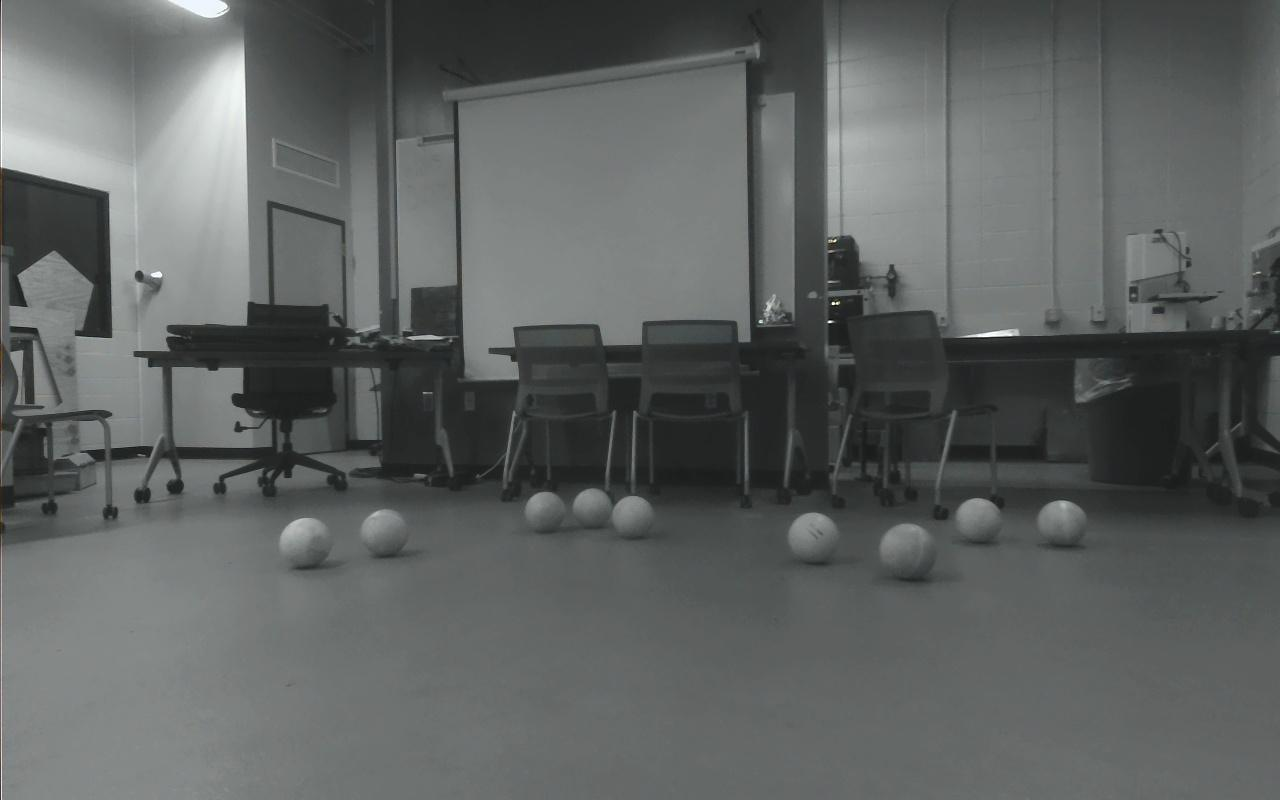Fuel: (878, 523, 936, 580), (788, 511, 840, 563), (280, 517, 333, 568), (1037, 498, 1087, 547), (360, 509, 410, 557), (955, 497, 1002, 544), (612, 495, 655, 538), (572, 488, 613, 529), (525, 492, 566, 533)
